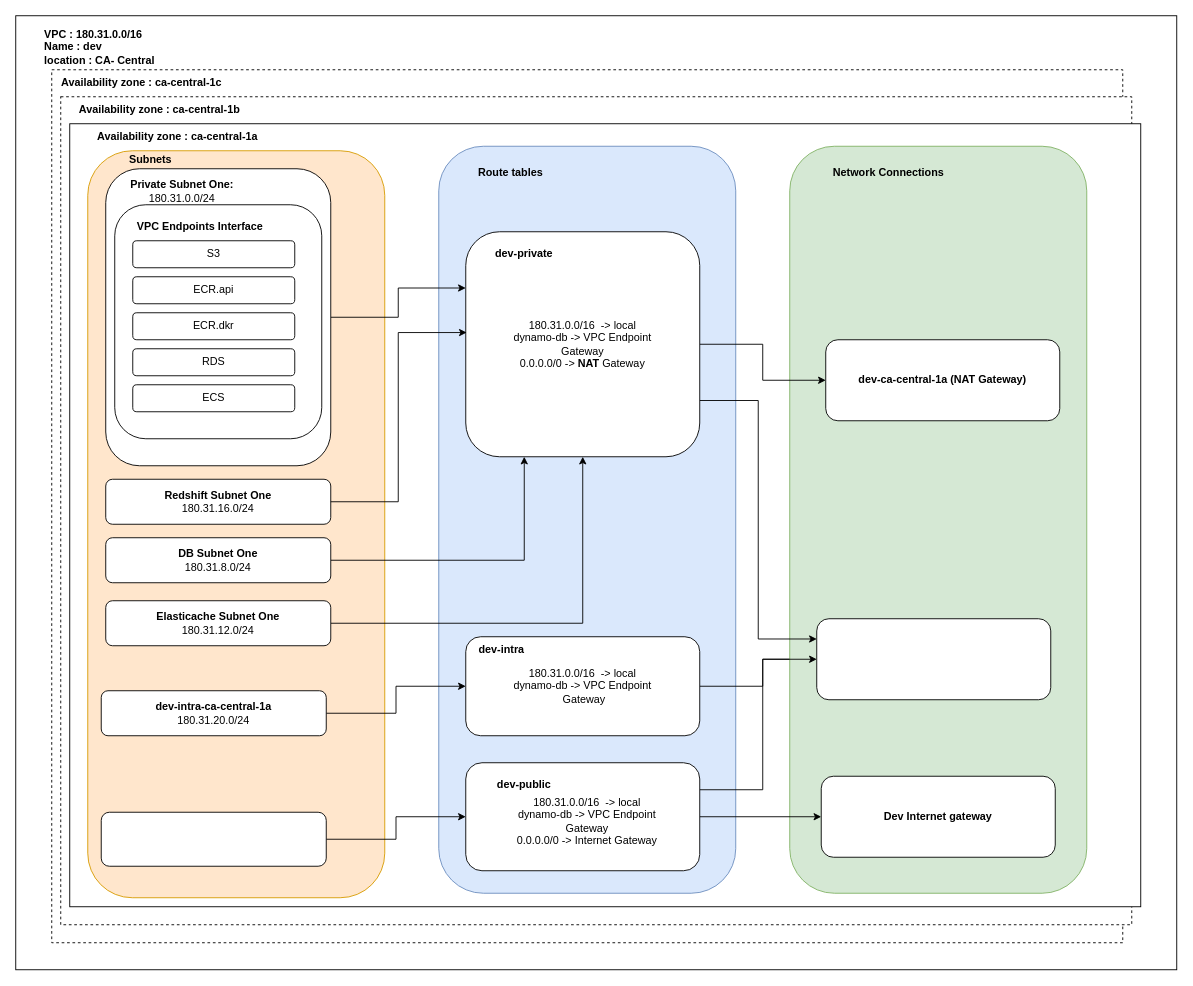
The diagram is 1193 pixels wide and 986 high, and some of its shapes have lost their labels. Here are the shapes that lost their labels. From the top down, the centre of each, then its label:
(x=933, y=659): dynamodb-vpc-endpoint
(x=213, y=838): dev-public-ca-central-1a 180.31.4.0/24
